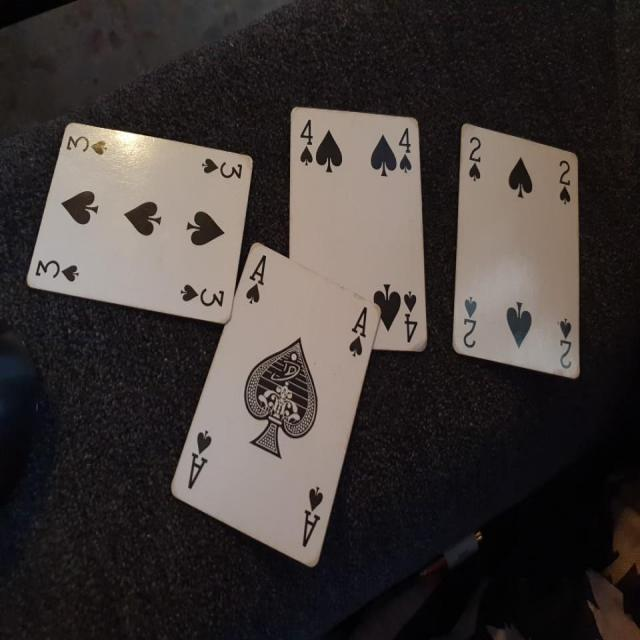2 Spades: (439, 112, 594, 390)
3 Spades: (23, 119, 255, 332)
4 Spades: (286, 102, 426, 362)
A Spades: (161, 245, 383, 575)
